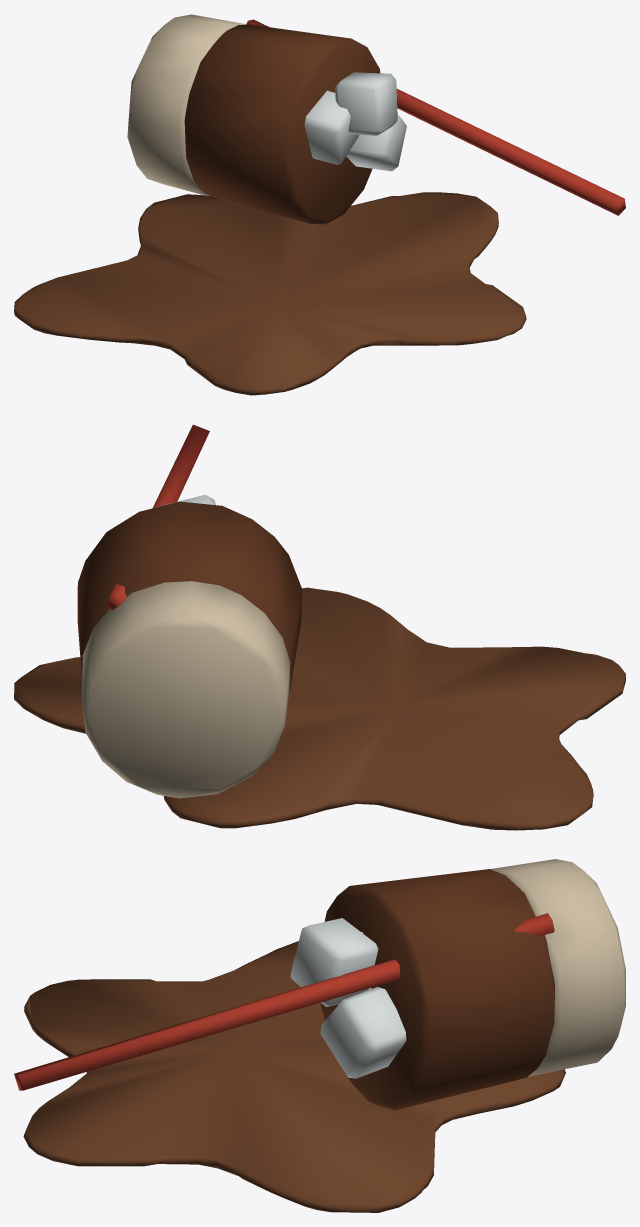
The model's file is ly_caphe_do.glb.
The picture shows the model from 3 angles, top to bottom: view 1: azimuth 30°, elevation 25°; view 2: azimuth 150°, elevation 25°; view 3: azimuth 270°, elevation 25°; orthographic projection. The views are drawn at different scales.
Visible parts, largest first — view 1: ly_caphe_do; view 2: ly_caphe_do; view 3: ly_caphe_do.
Boxes of the visible parts, bbox=[...] form: ly_caphe_do: bbox=[14, 14, 625, 395]; ly_caphe_do: bbox=[14, 424, 625, 830]; ly_caphe_do: bbox=[14, 859, 625, 1212].
Bounding box in the file's own units: 0.2268 × 0.0896 × 0.2119.
